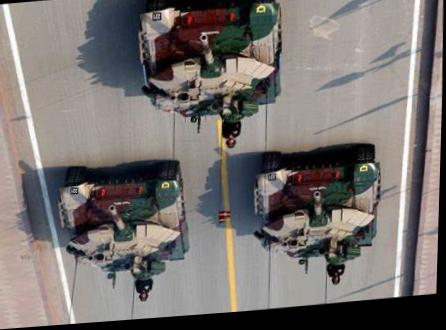tank: (132, 0, 288, 158), (54, 154, 191, 315), (252, 141, 390, 297)
